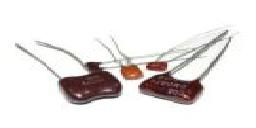Electrolytic-Capacitor: (50, 65, 126, 108), (137, 71, 208, 107), (118, 58, 146, 82), (145, 58, 169, 71)
